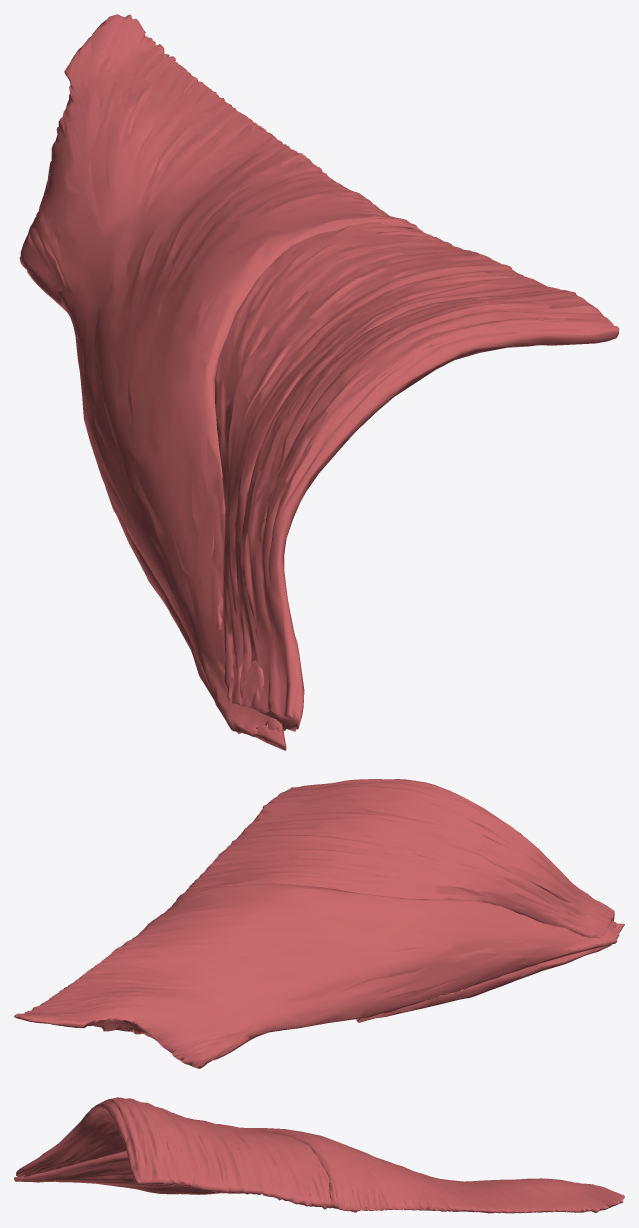
3 renders of one model, top to bottom at view 1: azimuth 30°, elevation 25°; view 2: azimuth 150°, elevation 25°; view 3: azimuth 270°, elevation 25°, orthographic. The views are drawn at different scales.
Parts seen in each view (by area): view 1: 右侧背阔肌; view 2: 右侧背阔肌; view 3: 右侧背阔肌.
Part boxes in pixels (bbox=[...]): 右侧背阔肌: bbox=[19, 14, 619, 750]; 右侧背阔肌: bbox=[14, 779, 624, 1068]; 右侧背阔肌: bbox=[14, 1097, 624, 1213].
Bounding box in the file's own units: 0.2754 × 0.1498 × 0.6047.
